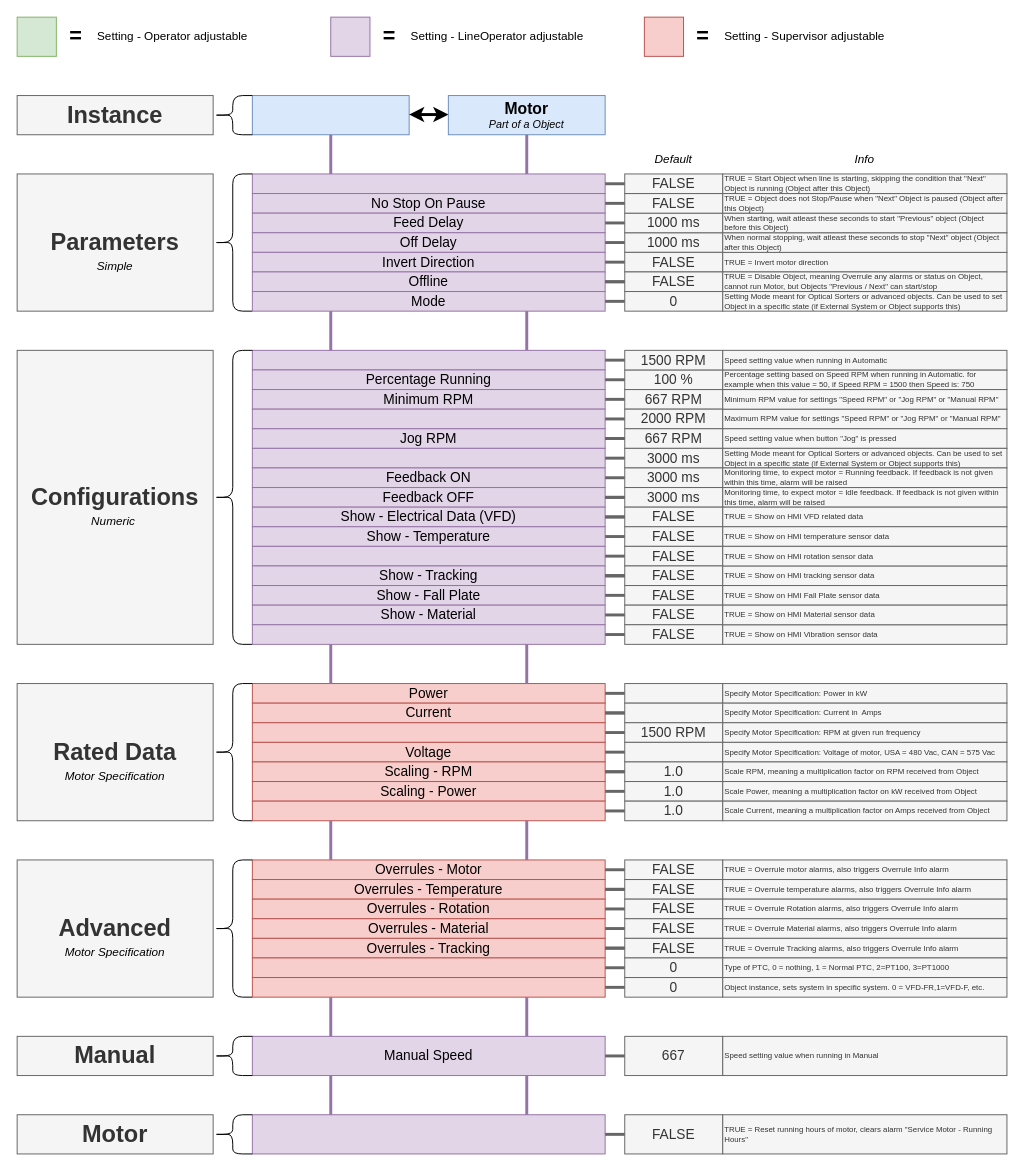
Some shapes in this 1024 by 1171 pixel diagram are drawn without their labels. Each missing label, with the centre of its shape:
1 kW: the point at 673,693
480 V: the point at 673,751
5 A: the point at 673,712
Current Measurement Time (Monitor Amps): the point at 428,457
Maximum RPM: the point at 428,418
Object Can be Drum, Conveyor, etc.: the point at 330,115
Object setting - Instance: the point at 428,987
Object setting - PTC: the point at 428,967
Reset - Running hours: the point at 428,1134
RPM @ Frequency: the point at 428,732
Scaling - Current: the point at 428,810
Show - Rotation: the point at 428,555
Show - Vibration: the point at 428,634
Speed RPM: the point at 428,359
Start at System Start: the point at 428,183
